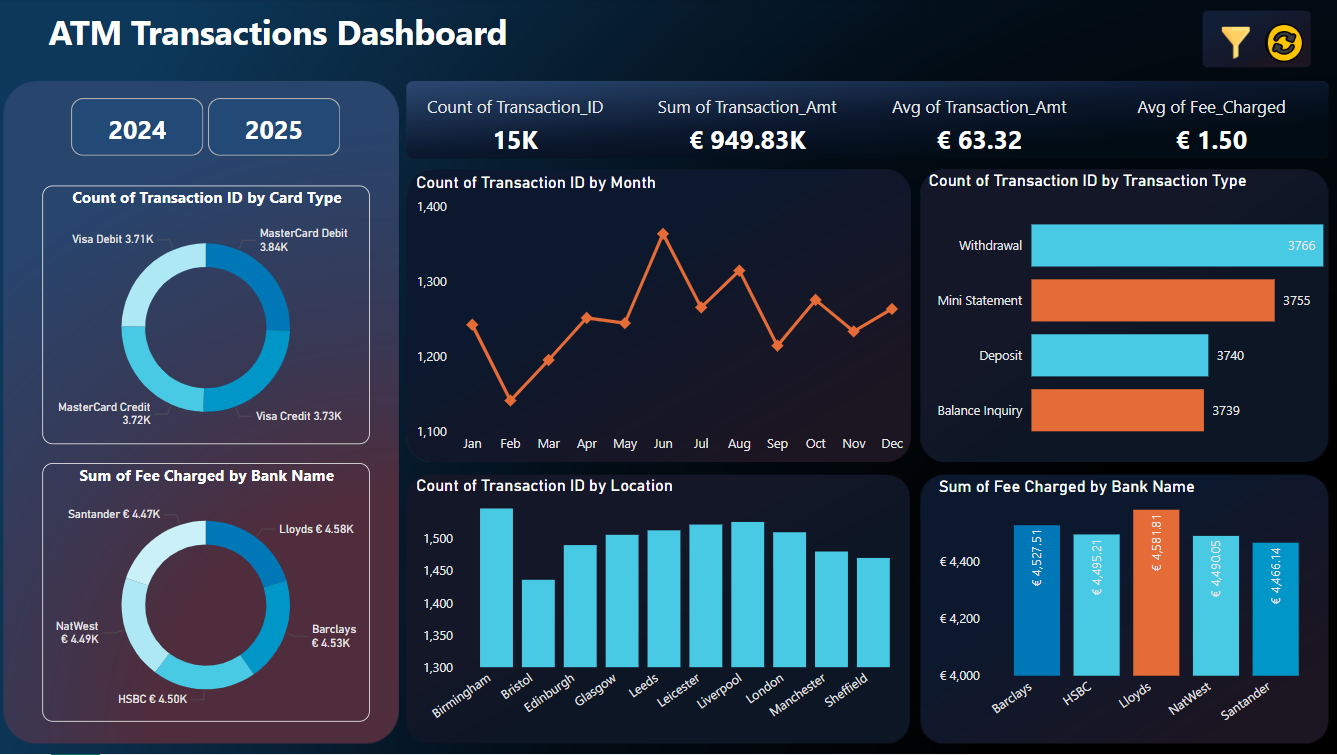

What the dashboard file says about the page in this screenshot:
{"tool":"powerbi","page":{"name":"Page 1","canvas":[1280,720],"ordinal":0},"visuals":[{"type":"image","title":"Filter Button","box":[1153.6,22.7,54.4,40.6],"z":1000,"group":"g1"},{"type":"barChart","title":"Count of Transaction ID by Transaction Type","fields":{"Category":["ATM Transactions Data.Transaction_Type"],"Y":["CountNonNull(ATM Transactions Data.Transaction_ID)"]},"box":[883,164.3,386,276.3],"z":1000},{"type":"image","title":"Remove Filters","box":[1199.3,15.2,55.6,54.4],"z":2000,"group":"g1"},{"type":"columnChart","title":"Count of Transaction ID by Location","fields":{"Category":["ATM Transactions Data.Location"],"Y":["CountNonNull(ATM Transactions Data.Transaction_ID)"]},"box":[394.7,455.1,477.8,255.8],"z":2000},{"type":"lineChart","title":"Count of Transaction ID by Month","fields":{"Category":["ATM Transactions Data.Month Name"],"Y":["CountNonNull(ATM Transactions Data.Transaction_ID)"]},"box":[394.7,166.7,477.8,276.3],"z":3000},{"type":"donutChart","title":"Count of Transaction ID by Card Type","fields":{"Category":["ATM Transactions Data.Card_Type"],"Y":["CountNonNull(ATM Transactions Data.Transaction_ID)"]},"box":[44,178.6,311.9,246.4],"z":4000},{"type":"columnChart","title":"Sum of Fee Charged by Bank Name","fields":{"Category":["ATM Transactions Data.Bank_Name"],"Y":["Sum(ATM Transactions Data.Fee_Charged)"]},"box":[892.5,455.6,377.4,255.7],"z":5000},{"type":"donutChart","title":"Sum of Fee Charged by Bank Name","fields":{"Category":["ATM Transactions Data.Bank_Name"],"Y":["Sum(ATM Transactions Data.Fee_Charged)"]},"box":[44,442.9,311.9,246.4],"z":6000},{"type":"cardVisual","fields":{"Data":["CountNonNull(ATM Transactions Data.Transaction_ID)","Sum(ATM Transactions Data.Transaction_Amount)","Avg(ATM Transactions Data.Transaction_Amount)","Avg(ATM Transactions Data.Fee_Charged)"]},"box":[384.8,79.4,883.8,77],"z":7000},{"type":"textbox","box":[22.6,6,491.7,57.1],"z":8000},{"type":"advancedSlicerVisual","fields":{"Values":["ATM Transactions Data.Year"]},"box":[66.7,90.5,267.9,65.5],"z":9000},{"type":"group","id":"g1","title":"Panel 2","box":[1153.6,15.2,101.3,54.4],"z":11000}]}

Visuals, with their boxes in screenshot pixels (x1, y1, x2, y2), scaled from the page's 1280x720 canvas onto the 1337x755 screenshot:
"Filter Button" image: x1=1205, y1=24, x2=1262, y2=66
"Count of Transaction ID by Transaction Type" barChart: x1=922, y1=172, x2=1326, y2=462
"Remove Filters" image: x1=1253, y1=16, x2=1311, y2=73
"Count of Transaction ID by Location" columnChart: x1=412, y1=477, x2=911, y2=745
"Count of Transaction ID by Month" lineChart: x1=412, y1=175, x2=911, y2=465
"Count of Transaction ID by Card Type" donutChart: x1=46, y1=187, x2=372, y2=446
"Sum of Fee Charged by Bank Name" columnChart: x1=932, y1=478, x2=1326, y2=746
"Sum of Fee Charged by Bank Name" donutChart: x1=46, y1=464, x2=372, y2=723
cardVisual - CountNonNull(ATM Transactions Data.Transaction_ID) x Sum(ATM Transactions Data.Transaction_Amount): x1=402, y1=83, x2=1325, y2=164
textbox: x1=24, y1=6, x2=537, y2=66
advancedSlicerVisual - ATM Transactions Data.Year: x1=70, y1=95, x2=350, y2=164
"Panel 2" group: x1=1205, y1=16, x2=1311, y2=73
